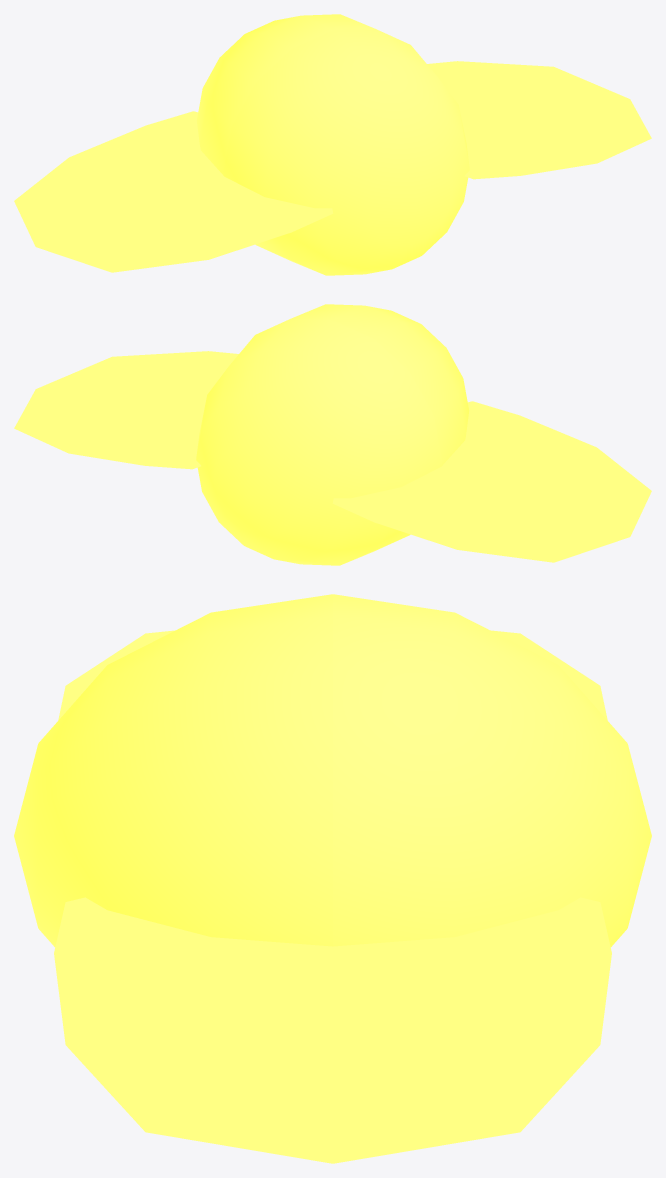
The picture shows the model from 3 angles, top to bottom: view 1: azimuth 30°, elevation 25°; view 2: azimuth 150°, elevation 25°; view 3: azimuth 270°, elevation 25°; orthographic projection. The views are drawn at different scales.
Parts seen in each view (by area): view 1: Sphere_1, Sphere_2, Sphere; view 2: Sphere_1, Sphere, Sphere_2; view 3: Sphere_1, Sphere, Sphere_2.
Boxes of the visible parts, x1=… form: Sphere_1: x1=14, y1=61, x2=651, y2=272; Sphere_2: x1=223, y1=28, x2=469, y2=275; Sphere: x1=196, y1=14, x2=374, y2=176; Sphere_1: x1=14, y1=351, x2=651, y2=562; Sphere: x1=196, y1=318, x2=442, y2=565; Sphere_2: x1=291, y1=304, x2=469, y2=466; Sphere_1: x1=54, y1=630, x2=611, y2=1163; Sphere: x1=333, y1=594, x2=651, y2=947; Sphere_2: x1=14, y1=594, x2=332, y2=947.
Bounding box in the file's own units: 0.3373 × 0.1245 × 0.164.
